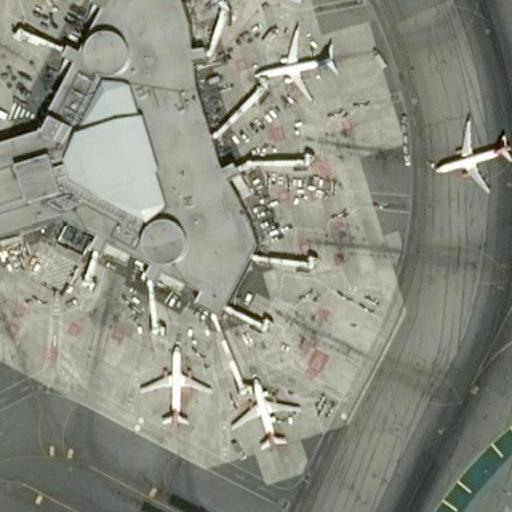Aircraft: (252, 27, 347, 93), (230, 363, 300, 450), (433, 117, 506, 192), (143, 346, 198, 431), (209, 0, 322, 2)
